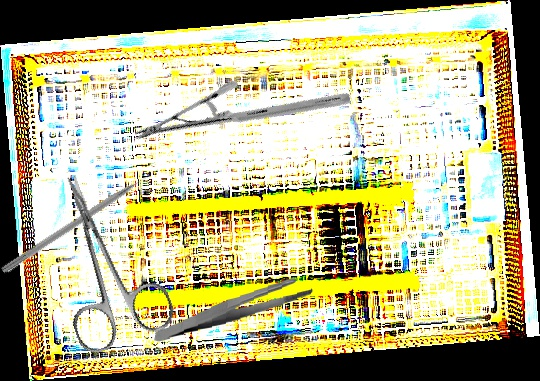Dressing Forceps: (150, 276, 316, 343)
Iris Scissors: (27, 158, 179, 358)
Needle Holder: (131, 11, 354, 222)
Pusher: (0, 166, 162, 276)
